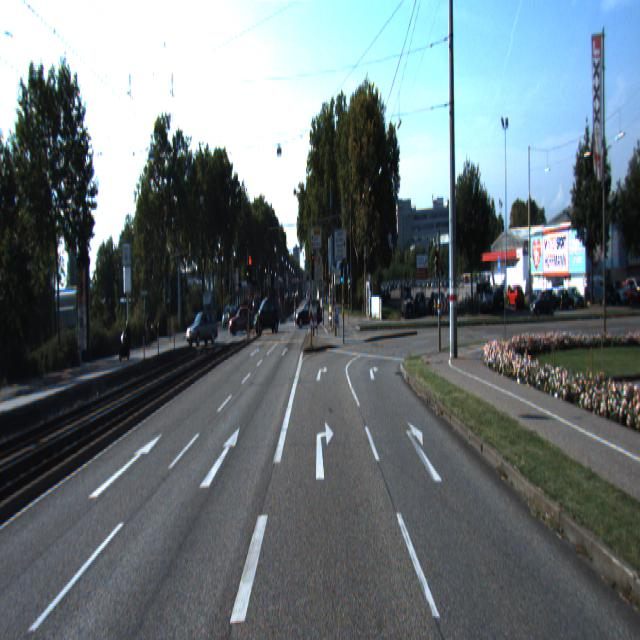Car: (186, 307, 220, 348), (253, 294, 279, 332), (228, 305, 255, 337), (119, 317, 133, 361)
